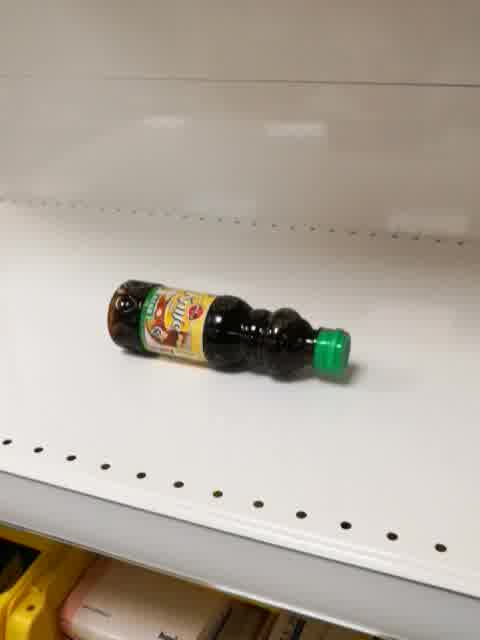cookingoil: (105, 277, 356, 384)
